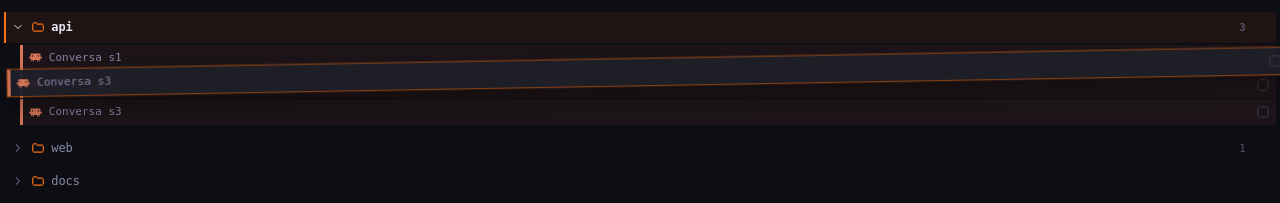
prévia do arraste e soltar no layout › Esc cancela: a ordem volta e nada é salvo
Step 1. Press the mouse on the button "Conversa s3" → (85, 111), box [23,99,1276,125]
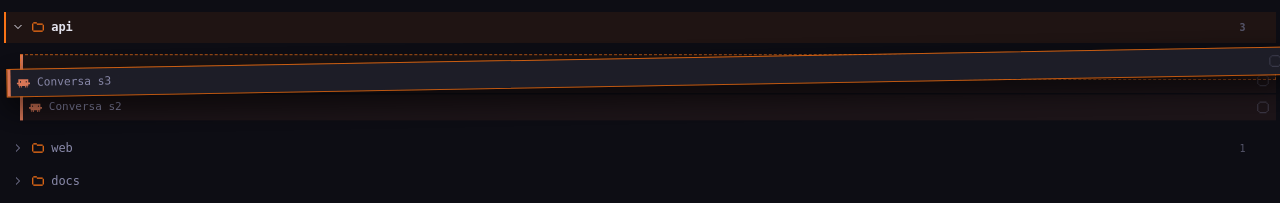
Step 2. Press Escape
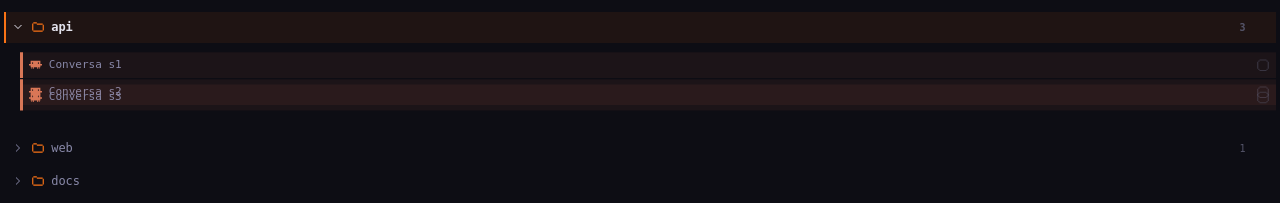
Result: the list item with class "lateral-fantasma" is gone
